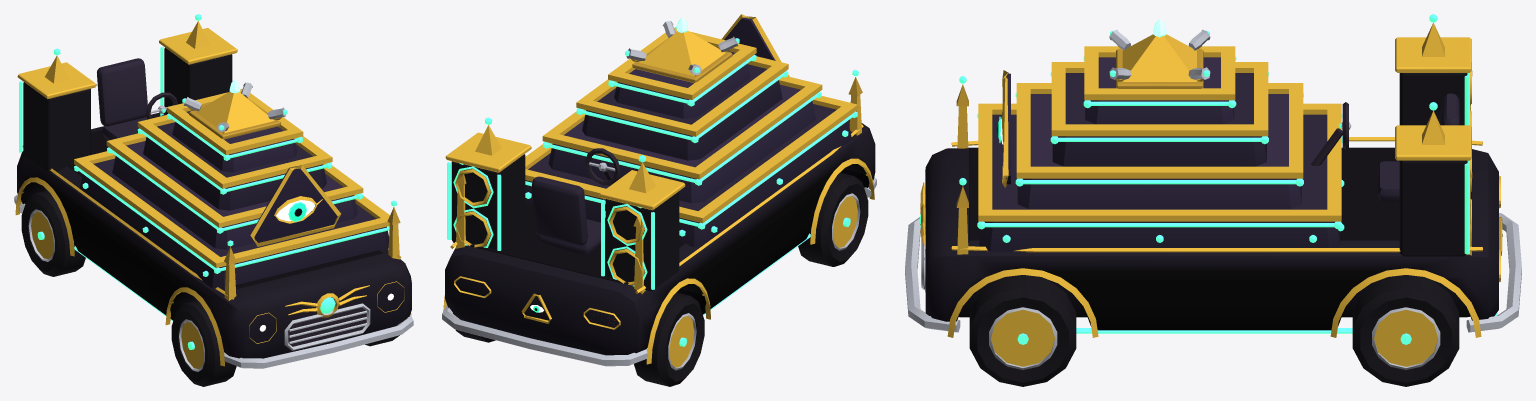
The model's file is pyramid_scheme_lo.glb.
3 renders of one model, left to right at view 1: azimuth 30°, elevation 25°; view 2: azimuth 150°, elevation 25°; view 3: azimuth 270°, elevation 25°, orthographic. The views are drawn at different scales.
Visible parts, largest first — view 1: shell, tier_0, tower_0, coping_0, tier_1, tier_2, coping_1, seat_back, tower_1, coping_2, eye_plaque, wheel_RR_tyre (+26 smaller); view 2: shell, tier_1, tier_0, tier_2, tower_0, tower_1, coping_1, coping_0, coping_2, seat_back, wheel_RR_tyre, wheel_FR_tyre (+27 smaller); view 3: shell, tier_0, tier_1, coping_0, tier_2, coping_1, wheel_RL_tyre, wheel_FL_tyre, tower_1, deck, coping_2, tier_3 (+26 smaller).
Boxes of the visible parts, x1=… form: shell: x1=17, y1=113, x2=411, y2=358; tier_0: x1=80, y1=158, x2=388, y2=289; tower_0: x1=23, y1=82, x2=90, y2=173; coping_0: x1=74, y1=151, x2=389, y2=267; tier_1: x1=112, y1=141, x2=357, y2=249; tier_2: x1=143, y1=122, x2=326, y2=210; coping_1: x1=106, y1=133, x2=363, y2=227; seat_back: x1=97, y1=58, x2=147, y2=126; tower_1: x1=164, y1=47, x2=232, y2=114; coping_2: x1=137, y1=115, x2=332, y2=188; eye_plaque: x1=250, y1=166, x2=337, y2=242; wheel_RR_tyre: x1=21, y1=190, x2=85, y2=276; shell: x1=445, y1=119, x2=875, y2=355; tier_1: x1=548, y1=84, x2=816, y2=203; tier_0: x1=525, y1=104, x2=851, y2=246; tier_2: x1=582, y1=64, x2=782, y2=160; tower_0: x1=605, y1=192, x2=679, y2=291; tower_1: x1=451, y1=154, x2=525, y2=249; coping_1: x1=542, y1=76, x2=822, y2=179; coping_0: x1=525, y1=96, x2=857, y2=223; coping_2: x1=576, y1=56, x2=788, y2=136; seat_back: x1=532, y1=176, x2=587, y2=245; wheel_RR_tyre: x1=634, y1=292, x2=704, y2=386; wheel_FR_tyre: x1=798, y1=172, x2=868, y2=266; shell: x1=925, y1=147, x2=1498, y2=330; tier_0: x1=979, y1=114, x2=1340, y2=251; tier_1: x1=1017, y1=94, x2=1301, y2=208; coping_0: x1=978, y1=103, x2=1341, y2=221; tier_2: x1=1052, y1=73, x2=1266, y2=166; coping_1: x1=1016, y1=83, x2=1303, y2=178; wheel_RL_tyre: x1=1352, y1=275, x2=1459, y2=386; wheel_FL_tyre: x1=969, y1=275, x2=1076, y2=386; tower_1: x1=1399, y1=160, x2=1467, y2=257; deck: x1=969, y1=148, x2=1471, y2=240; coping_2: x1=1051, y1=62, x2=1268, y2=136; tier_3: x1=1085, y1=57, x2=1234, y2=124.
Bounding box in the file's own units: 2.66 × 3.12 × 5.64.
